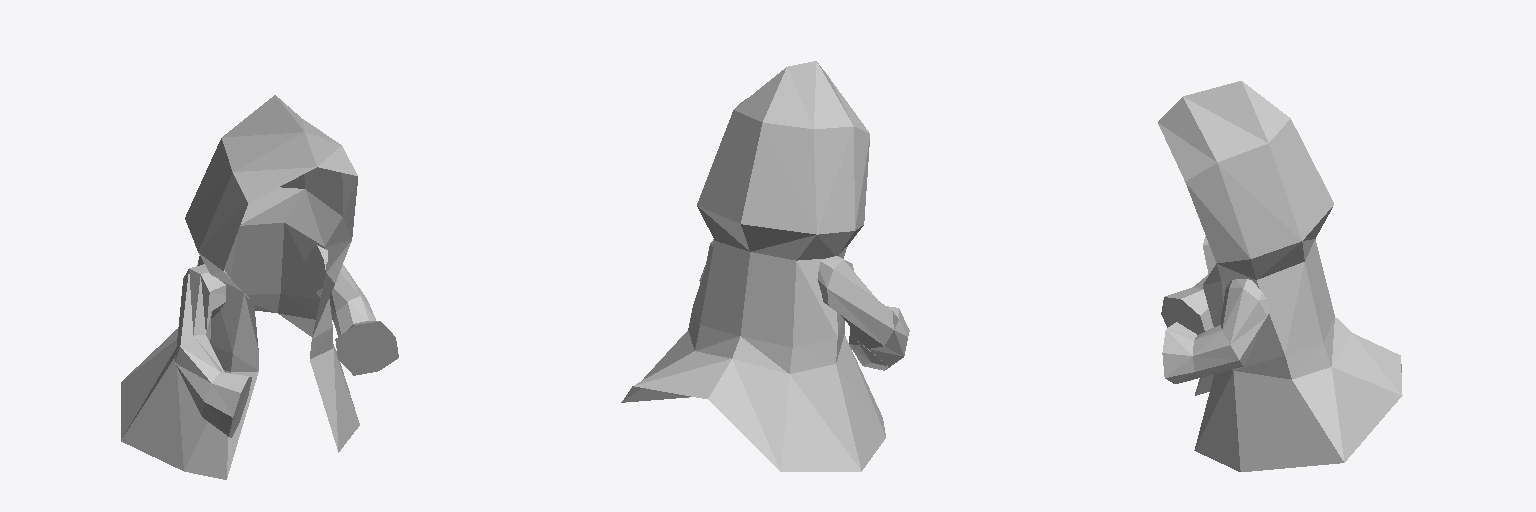
Rendered from loot_color.obj.
3 renders of one model, left to right at view 1: azimuth 30°, elevation 25°; view 2: azimuth 150°, elevation 25°; view 3: azimuth 270°, elevation 25°, orthographic.
Parts seen in each view (by area): view 1: COLOR_ME.001_COLOR_ME.009, COLOR_ME.002_COLOR_ME.009, COLOR_ME.010; view 2: COLOR_ME.001_COLOR_ME.009, COLOR_ME.002_COLOR_ME.009; view 3: COLOR_ME.001_COLOR_ME.009, COLOR_ME.010, COLOR_ME.002_COLOR_ME.009.
Boxes of the visible parts, box(x1,y1,x2,y2) form: COLOR_ME.001_COLOR_ME.009: box(121, 95, 359, 479); COLOR_ME.002_COLOR_ME.009: box(175, 264, 251, 437); COLOR_ME.010: box(306, 245, 398, 375); COLOR_ME.001_COLOR_ME.009: box(621, 61, 885, 471); COLOR_ME.002_COLOR_ME.009: box(817, 256, 909, 370); COLOR_ME.001_COLOR_ME.009: box(1158, 81, 1402, 471); COLOR_ME.010: box(1162, 279, 1268, 383); COLOR_ME.002_COLOR_ME.009: box(1161, 274, 1213, 334).
Size of the model in its own units: 0.8582 by 1.26 by 0.7951.